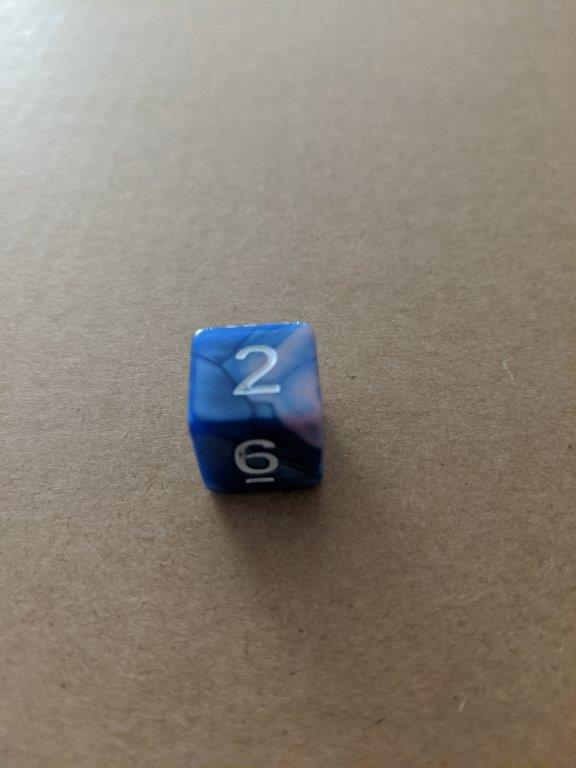d6-2: (188, 324, 327, 491)
